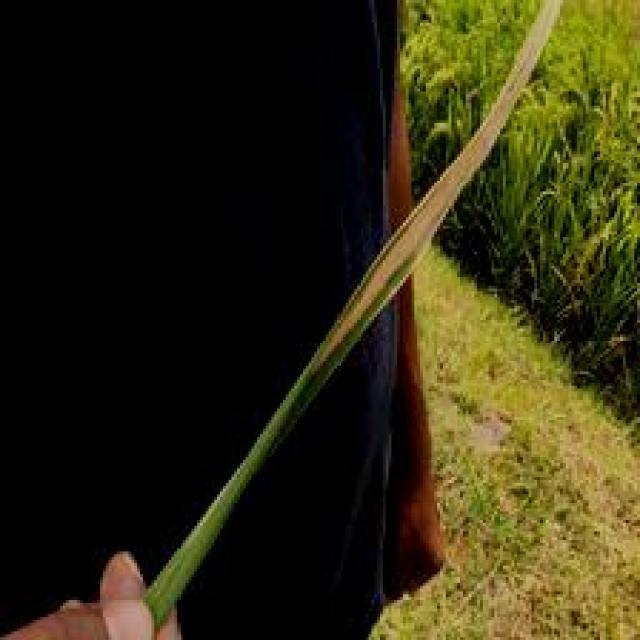Rice_Bacterial_Blight: (311, 6, 540, 368)
